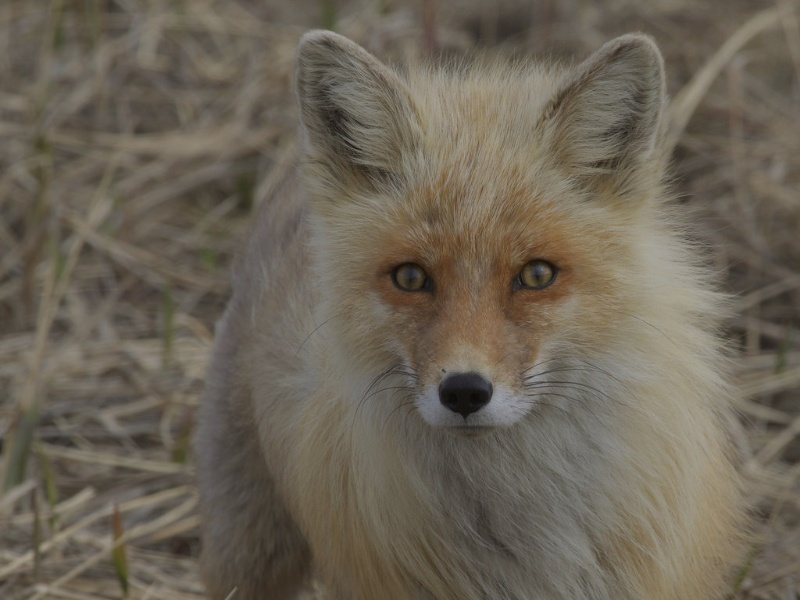fox: (182, 25, 753, 594)
